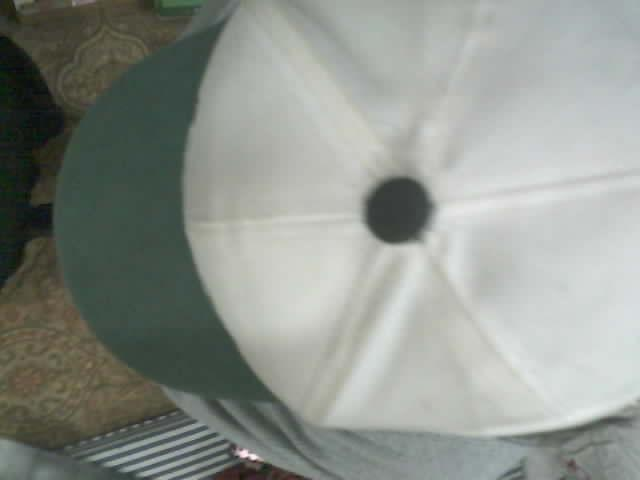cap: (53, 0, 639, 438)
